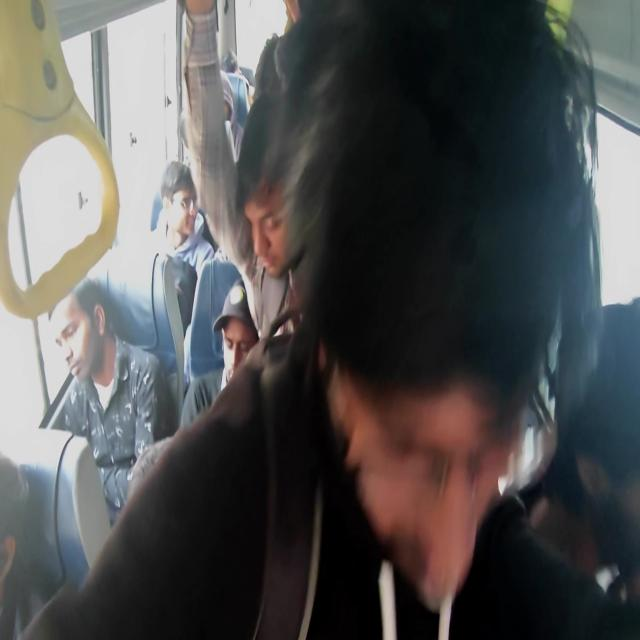person: (274, 74, 566, 514), (2, 442, 67, 610), (193, 15, 238, 130), (216, 299, 258, 405), (257, 115, 293, 236), (41, 280, 91, 361), (169, 180, 201, 234)
